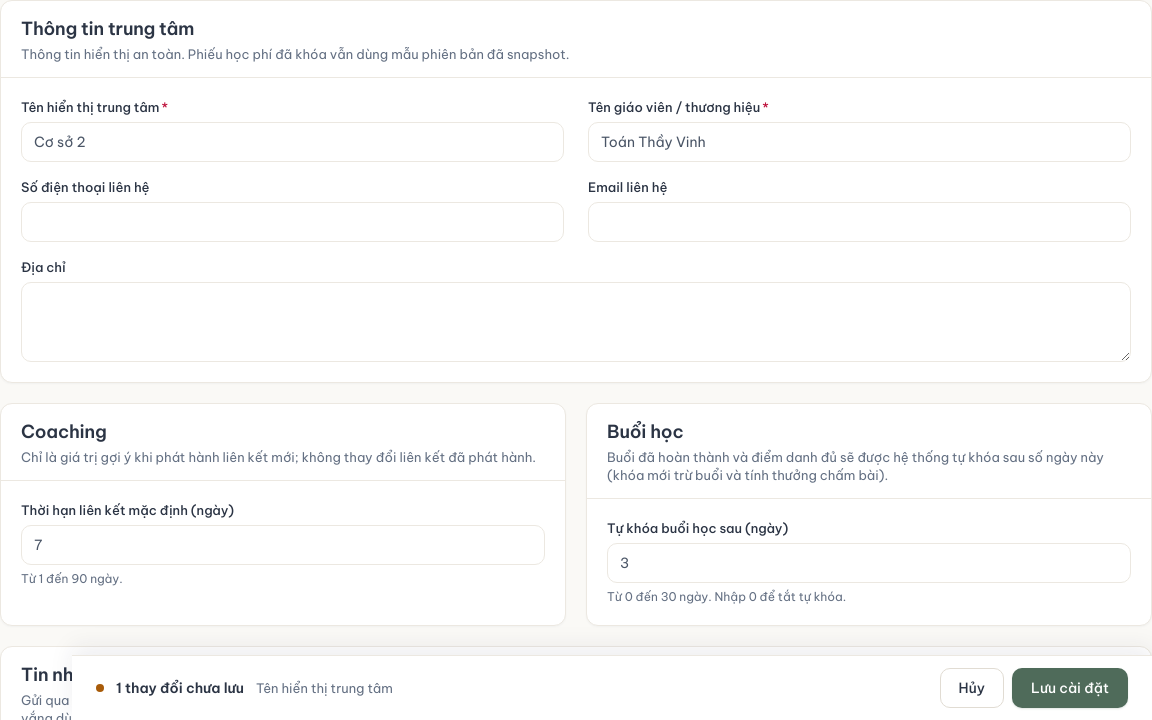
Test: SystemSettingsForm save bar › starts dirty from a seeded draft (preview) and Hủy goes back to the saved values
The image size is (1152, 720).
Check: the element named "Thanh lưu thay đổi" shows "1 thay đổi chưa lưu", box [116,679,244,697]
Check: the field labelled "Tên hiển thị trung tâm" holds "Cơ sở 2", box [21,122,564,162]
Click the button "Hủy". click: (972,688)
box: [940,668,1004,708]
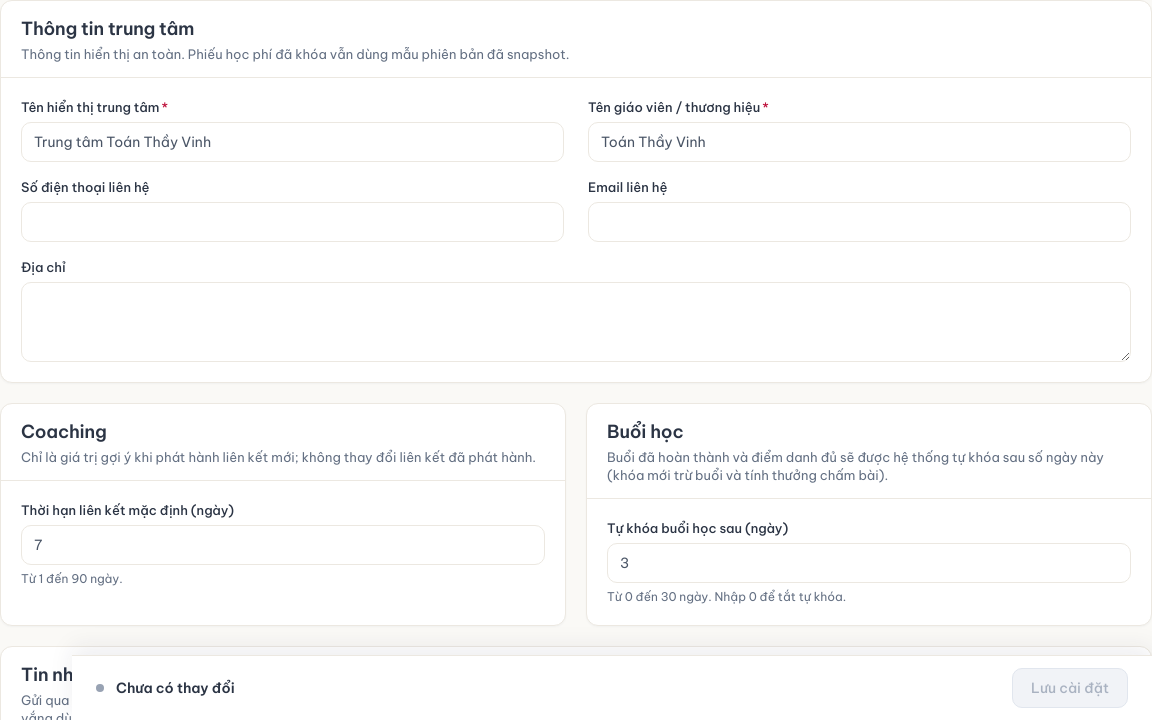
Check: the field labelled "Tên hiển thị trung tâm" holds "Trung tâm Toán Thầy Vinh", box [21,122,564,162]
